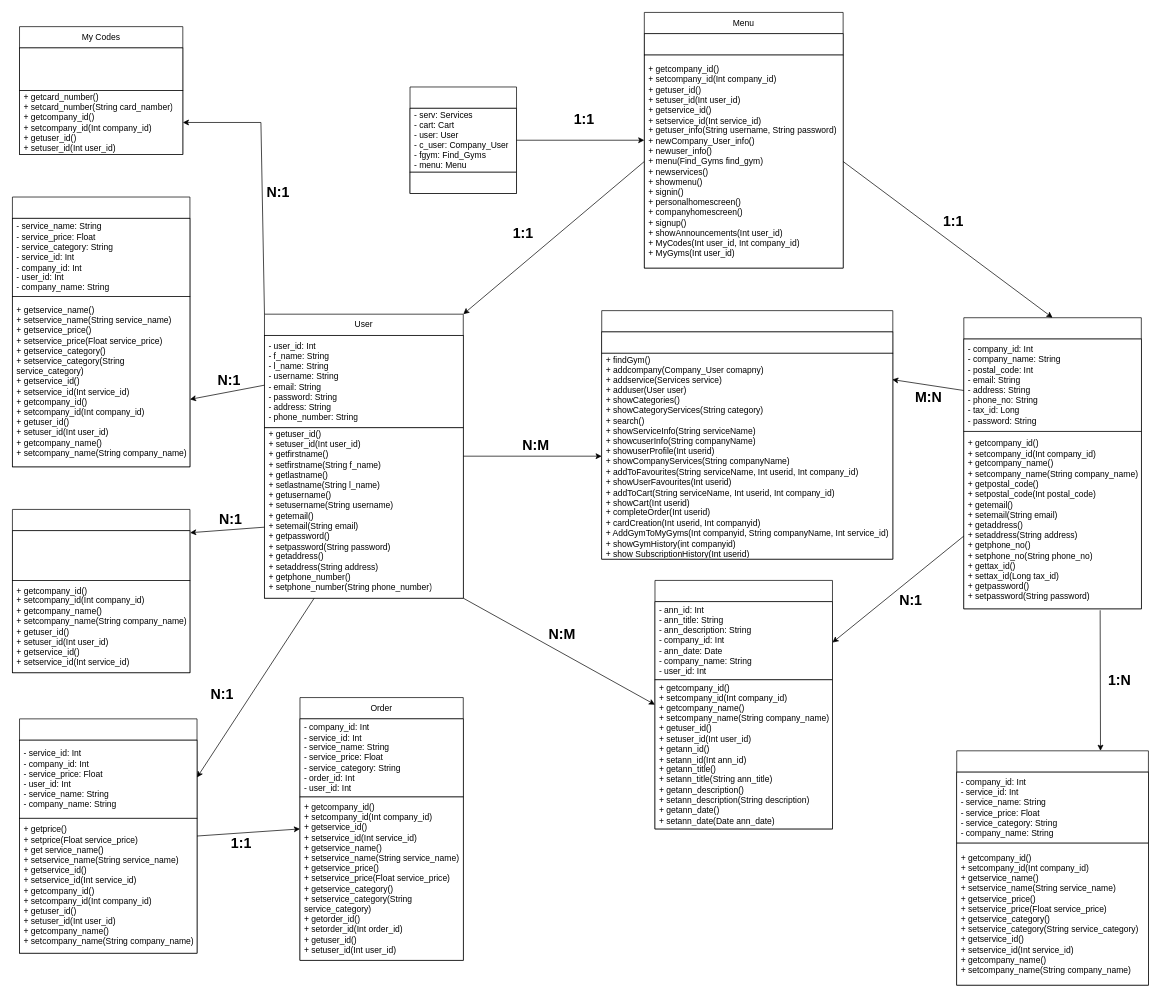
The diagram is 1161 pixels wide and 998 high, and some of its shapes have lost their labels. The shapes that lost their labels are listed below. From the top down, each one's box as (x1, y1, x2, y2) in pixels, then its label:
(19, 47, 183, 91): - card_number: String - company_id: Int - user_id: Int
(409, 86, 517, 193): Main
(12, 196, 190, 467): Favourites
(601, 310, 893, 559): Find Gyms
(963, 317, 1141, 609): Company User
(12, 530, 190, 580): - company_id: Int - user_id: Int - service_id: Int - company_name: String
(12, 509, 190, 673): My Gyms
(654, 580, 832, 829): Announcements
(19, 718, 197, 953): Cart
(956, 750, 1148, 985): Services
